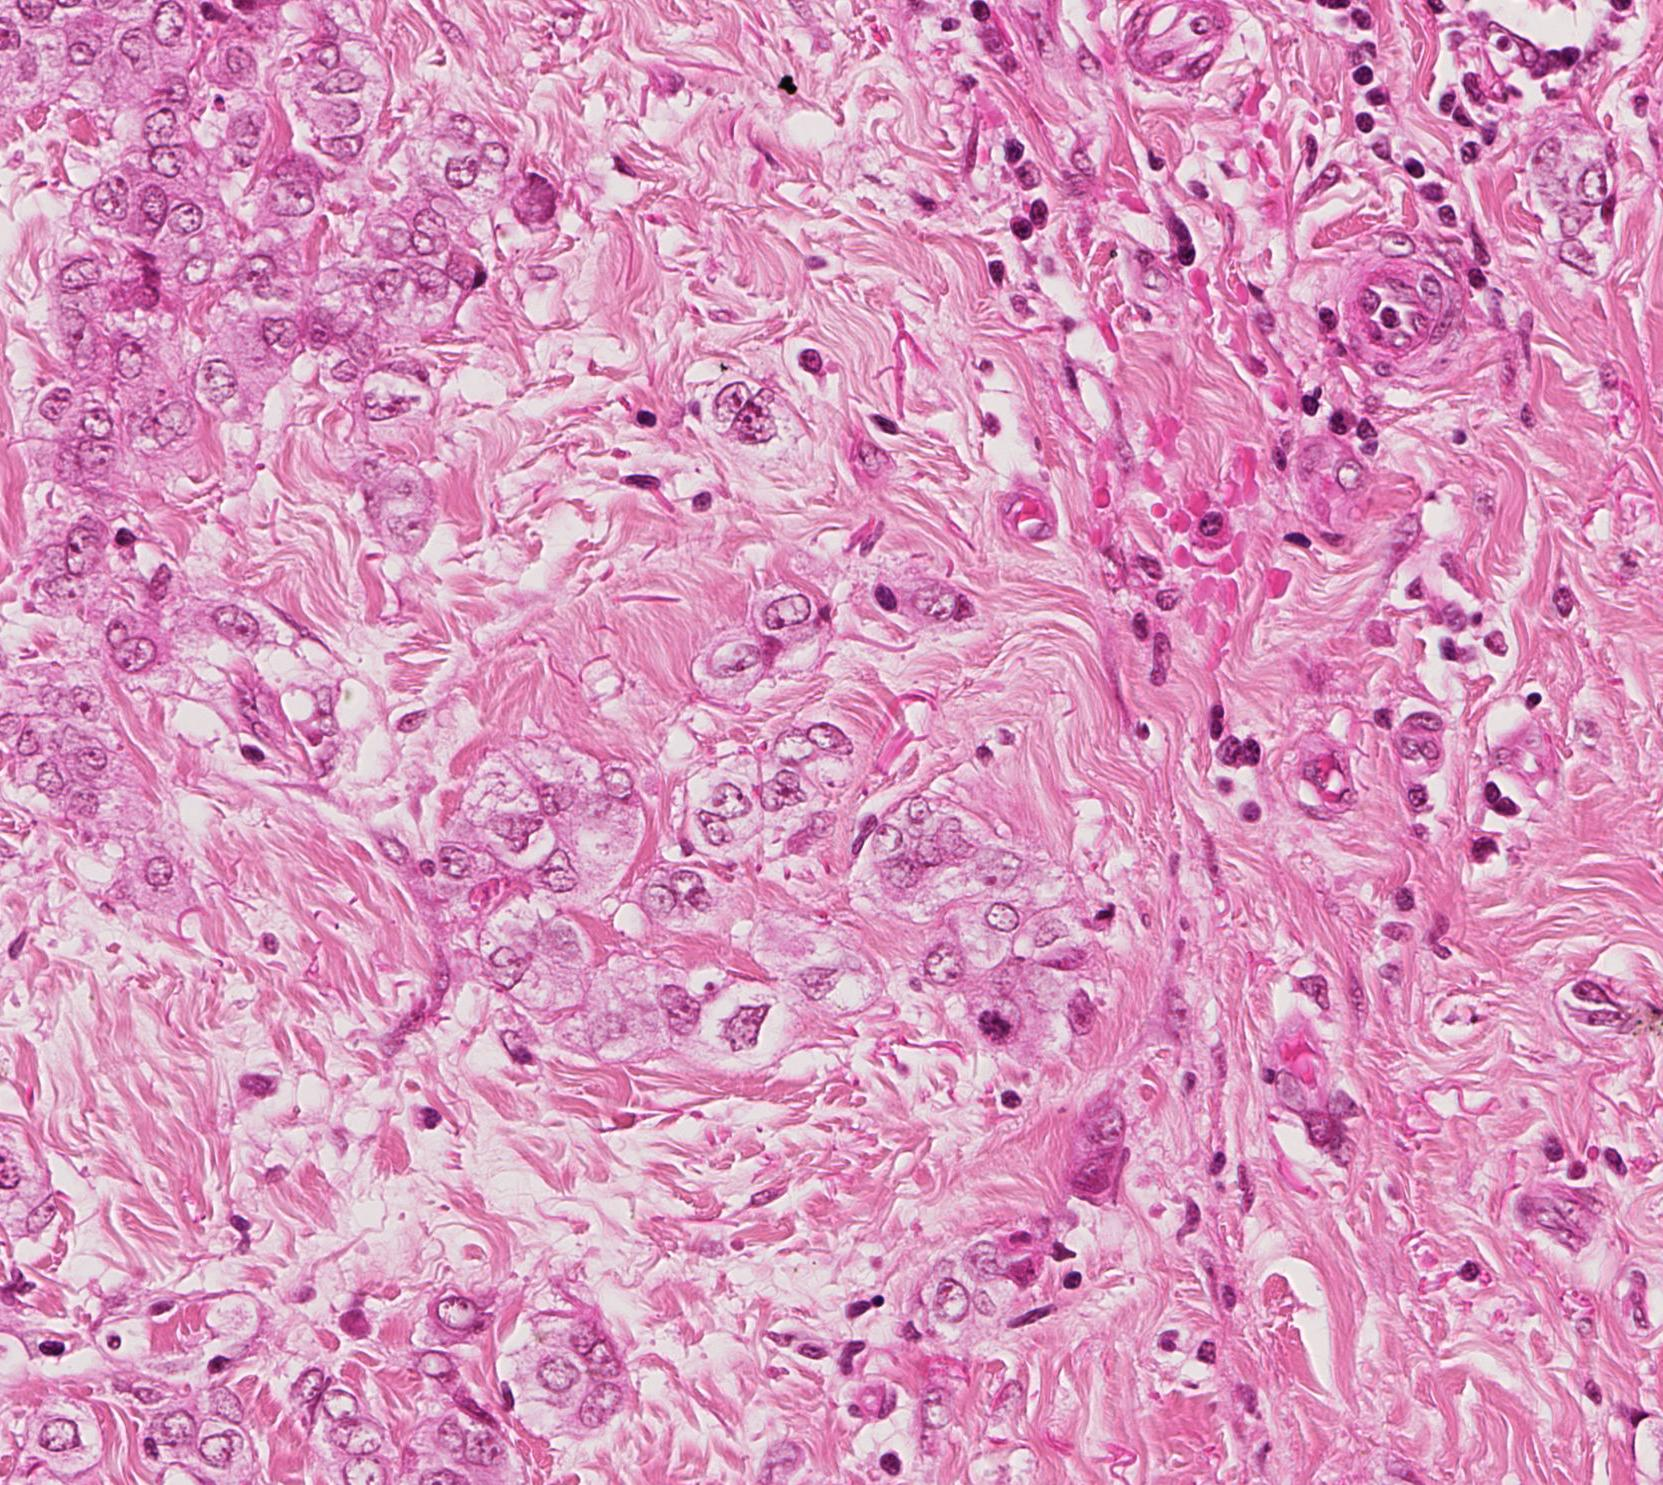mitosis: (963, 992, 1024, 1052)
